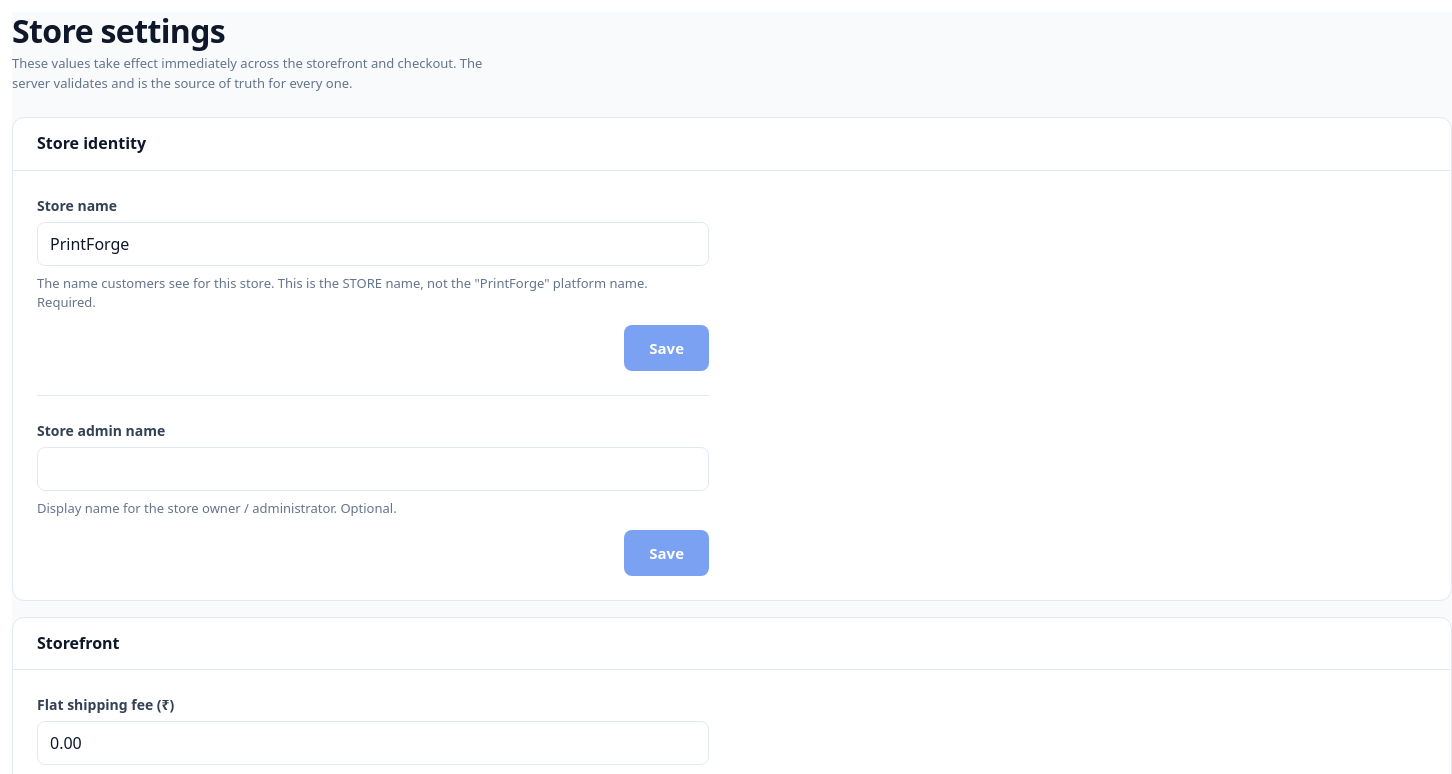
Test: AdminSettingsPage › surfaces a server rejection of the store name without claiming success
The image size is (1452, 774).
Replace the text in the field labelled "Store name" with "A slightly different name" at (373, 244), box [37,222,709,266]
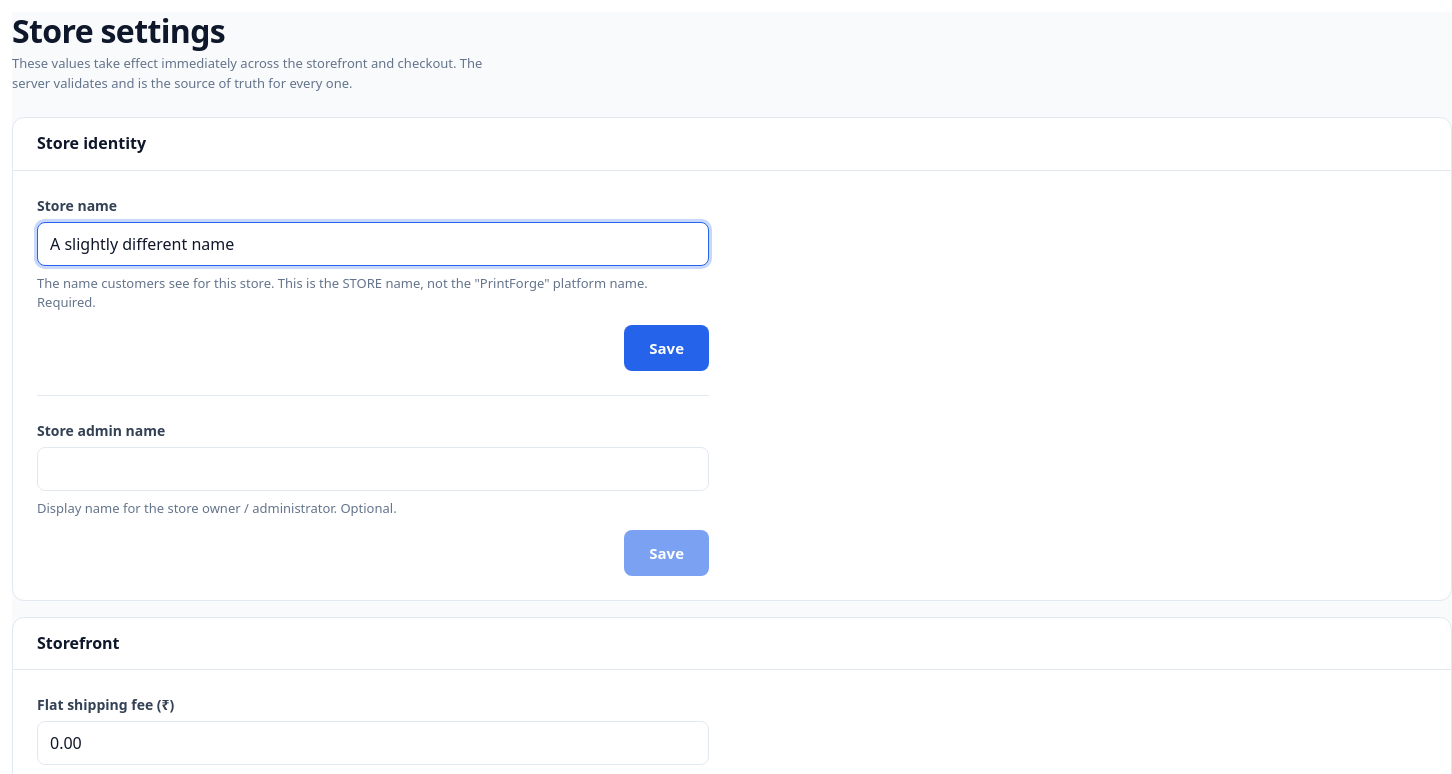
Click the 1st button "Save" at (667, 348), box [624,325,709,371]
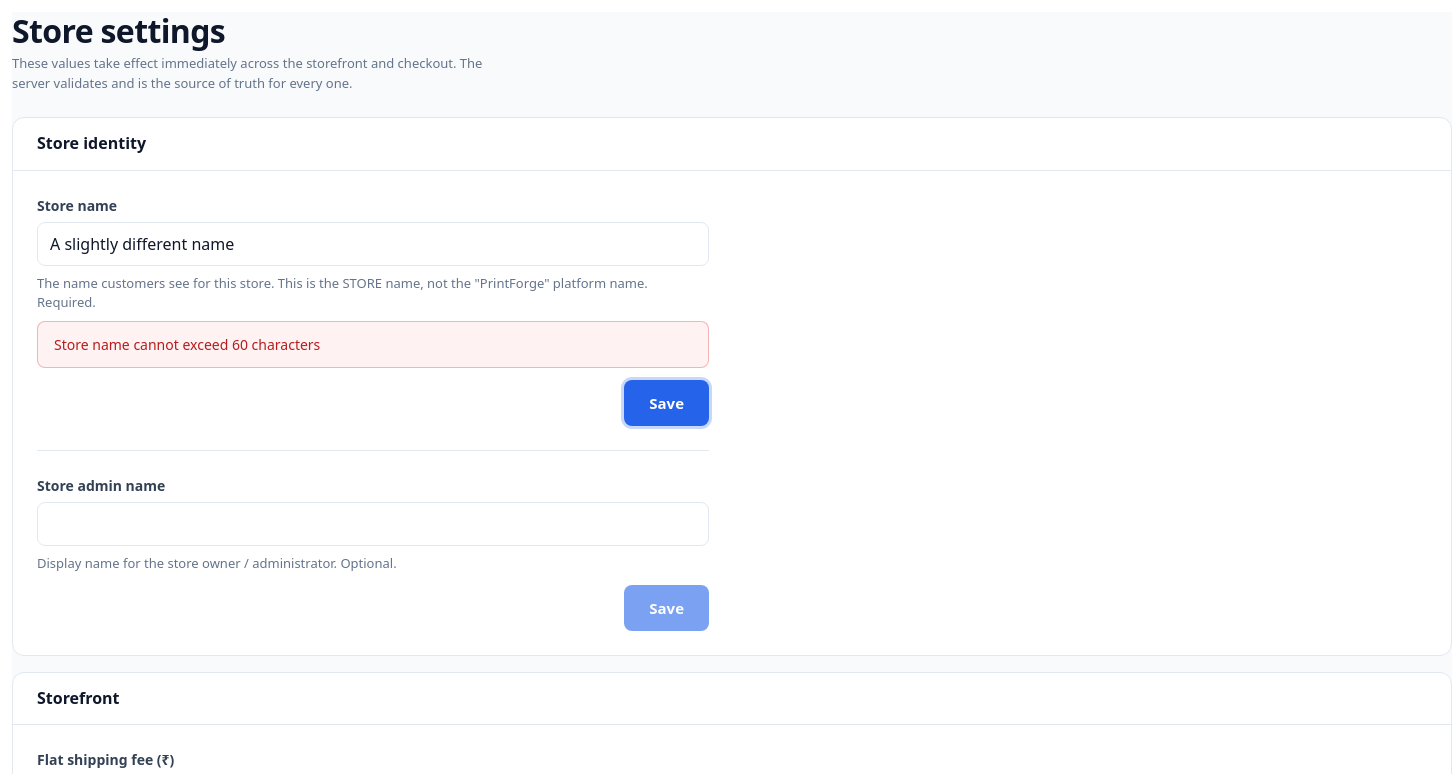
Check: the text "Store name cannot exceed 60 characters" is shown, box [37,321,709,368]
